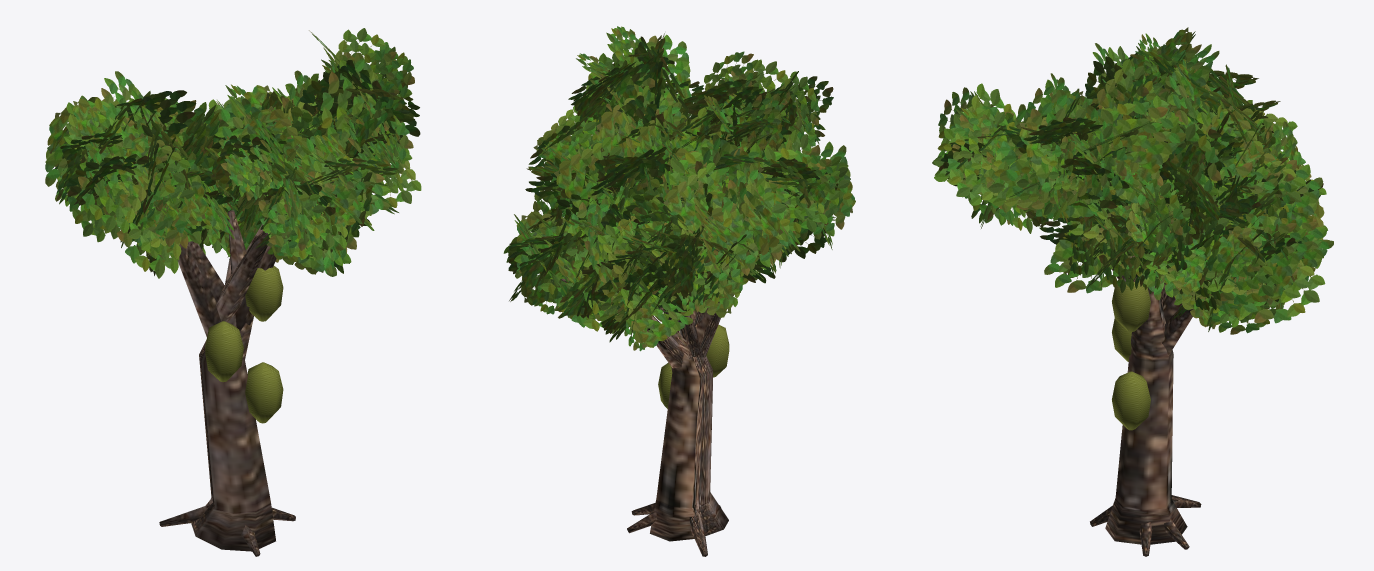
The model's file is Jackfruit_Tree.glb.
3 views of the same model, side by side, from view 1: azimuth 30°, elevation 25°; view 2: azimuth 150°, elevation 25°; view 3: azimuth 270°, elevation 25° (orthographic). The views are drawn at different scales.
Parts seen in each view (by area): view 1: Jackfruit_Tree; view 2: Jackfruit_Tree; view 3: Jackfruit_Tree.
Part boxes in pixels (x1=…): Jackfruit_Tree: x1=45, y1=28, x2=421, y2=556; Jackfruit_Tree: x1=503, y1=26, x2=855, y2=556; Jackfruit_Tree: x1=932, y1=27, x2=1333, y2=556.
Size of the model in its own units: 5.7 by 7.2 by 6.04.
2 materials, 2 textured.
